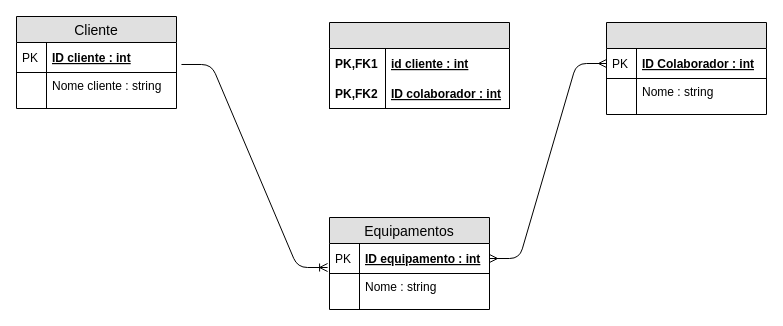
The diagram is 783 pixels wide and 326 high, and some of its shapes have lost their labels. Each missing label, with the box of its shape:
ClienteColaboradores: (328, 22, 510, 108)
Colaboradores: (606, 22, 766, 114)
